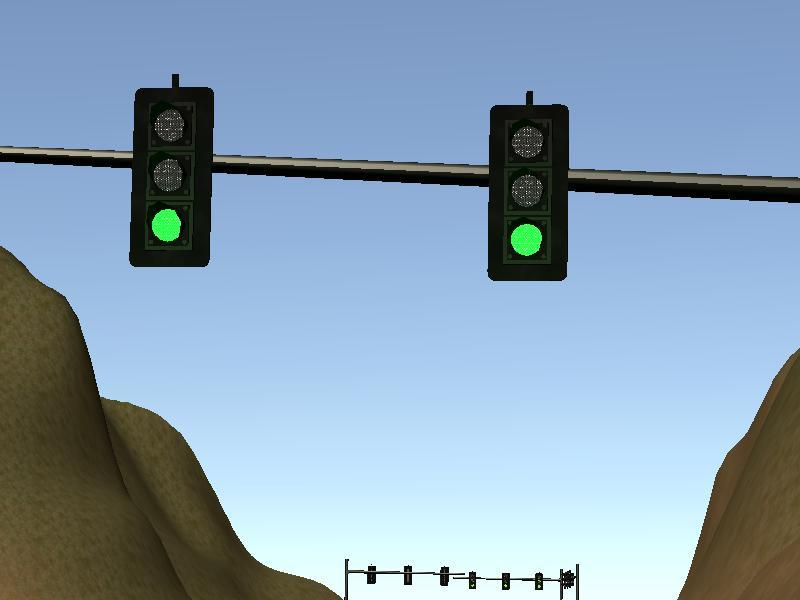Green: (136, 90, 212, 265), (491, 107, 567, 277)
